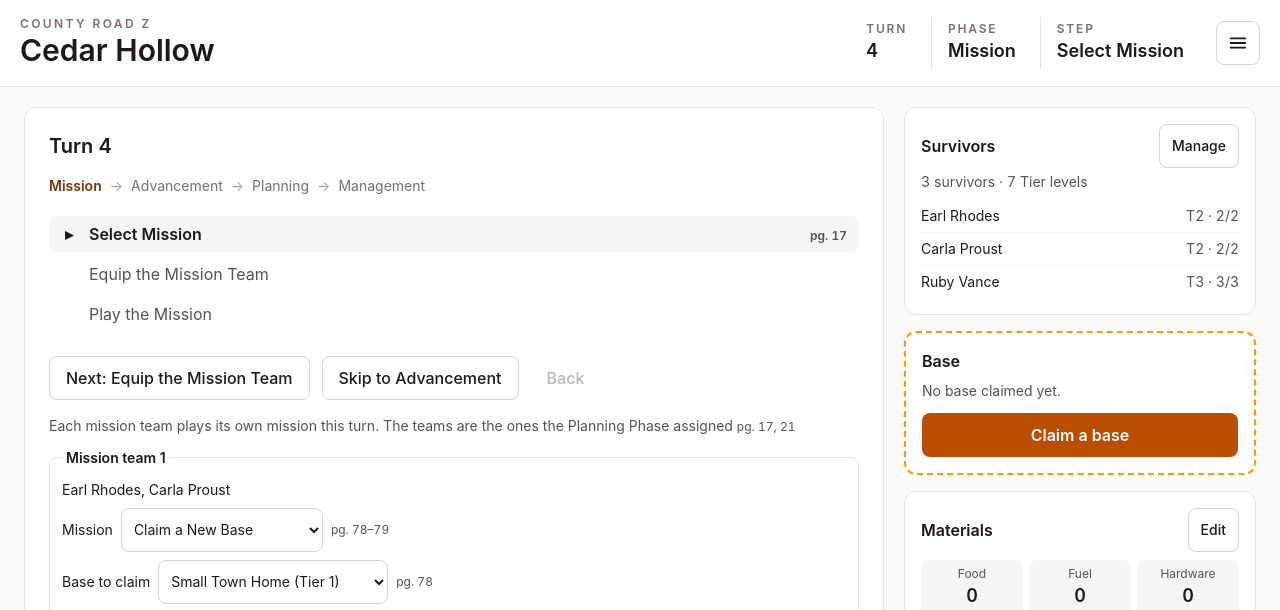
Select Mission (pg. 17; Z4-2) › asks each team the Planning Phase assigned for its own mission (pg. 21)
This screenshot has width=1280, height=610.
Expected: the text "Earl Rhodes, Carla Proust" is shown, left=62, top=480, right=230, bottom=498
Select "Thin the Herd" in the dropdown labelled "Mission": (222, 530) left=121, top=508, right=323, bottom=552
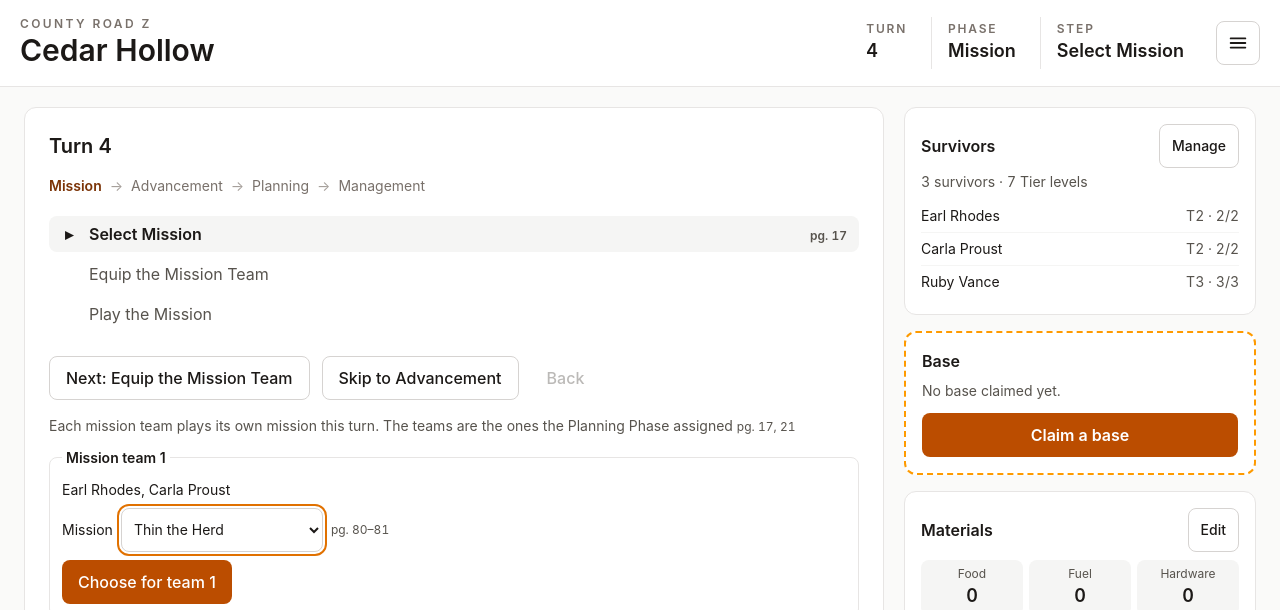
Click the button "Choose for team 1": (147, 582) left=62, top=560, right=232, bottom=604
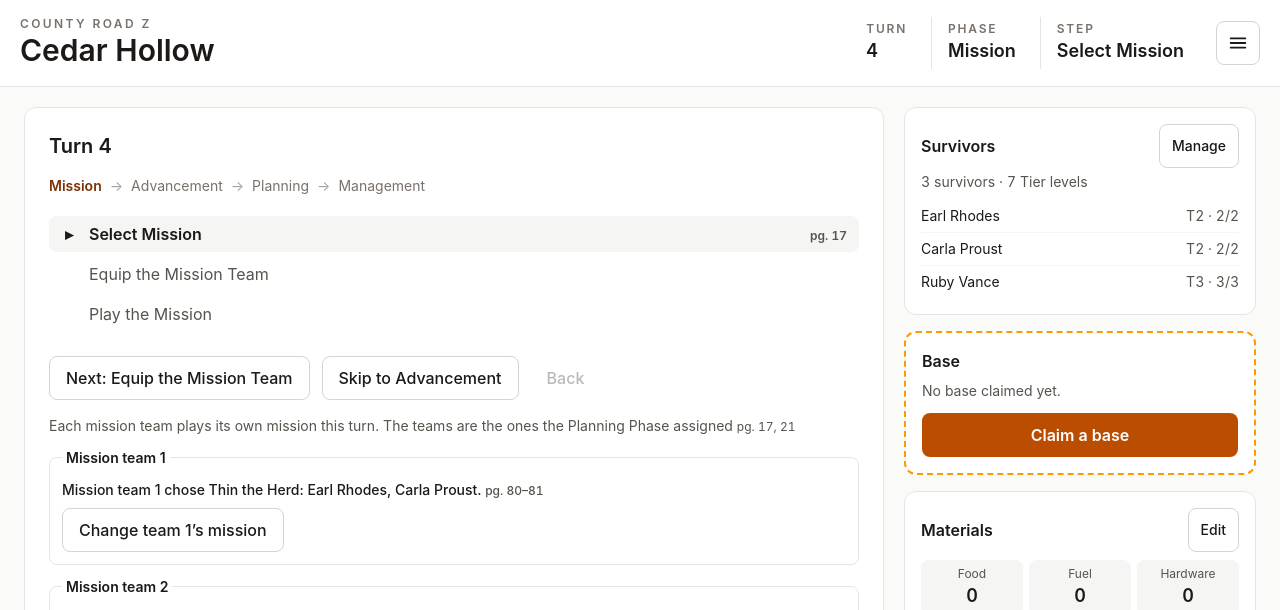
Now the text "Mission team 1 chose Thin the Herd: Earl Rhodes, Carla Proust." is shown, box left=62, top=480, right=481, bottom=498
